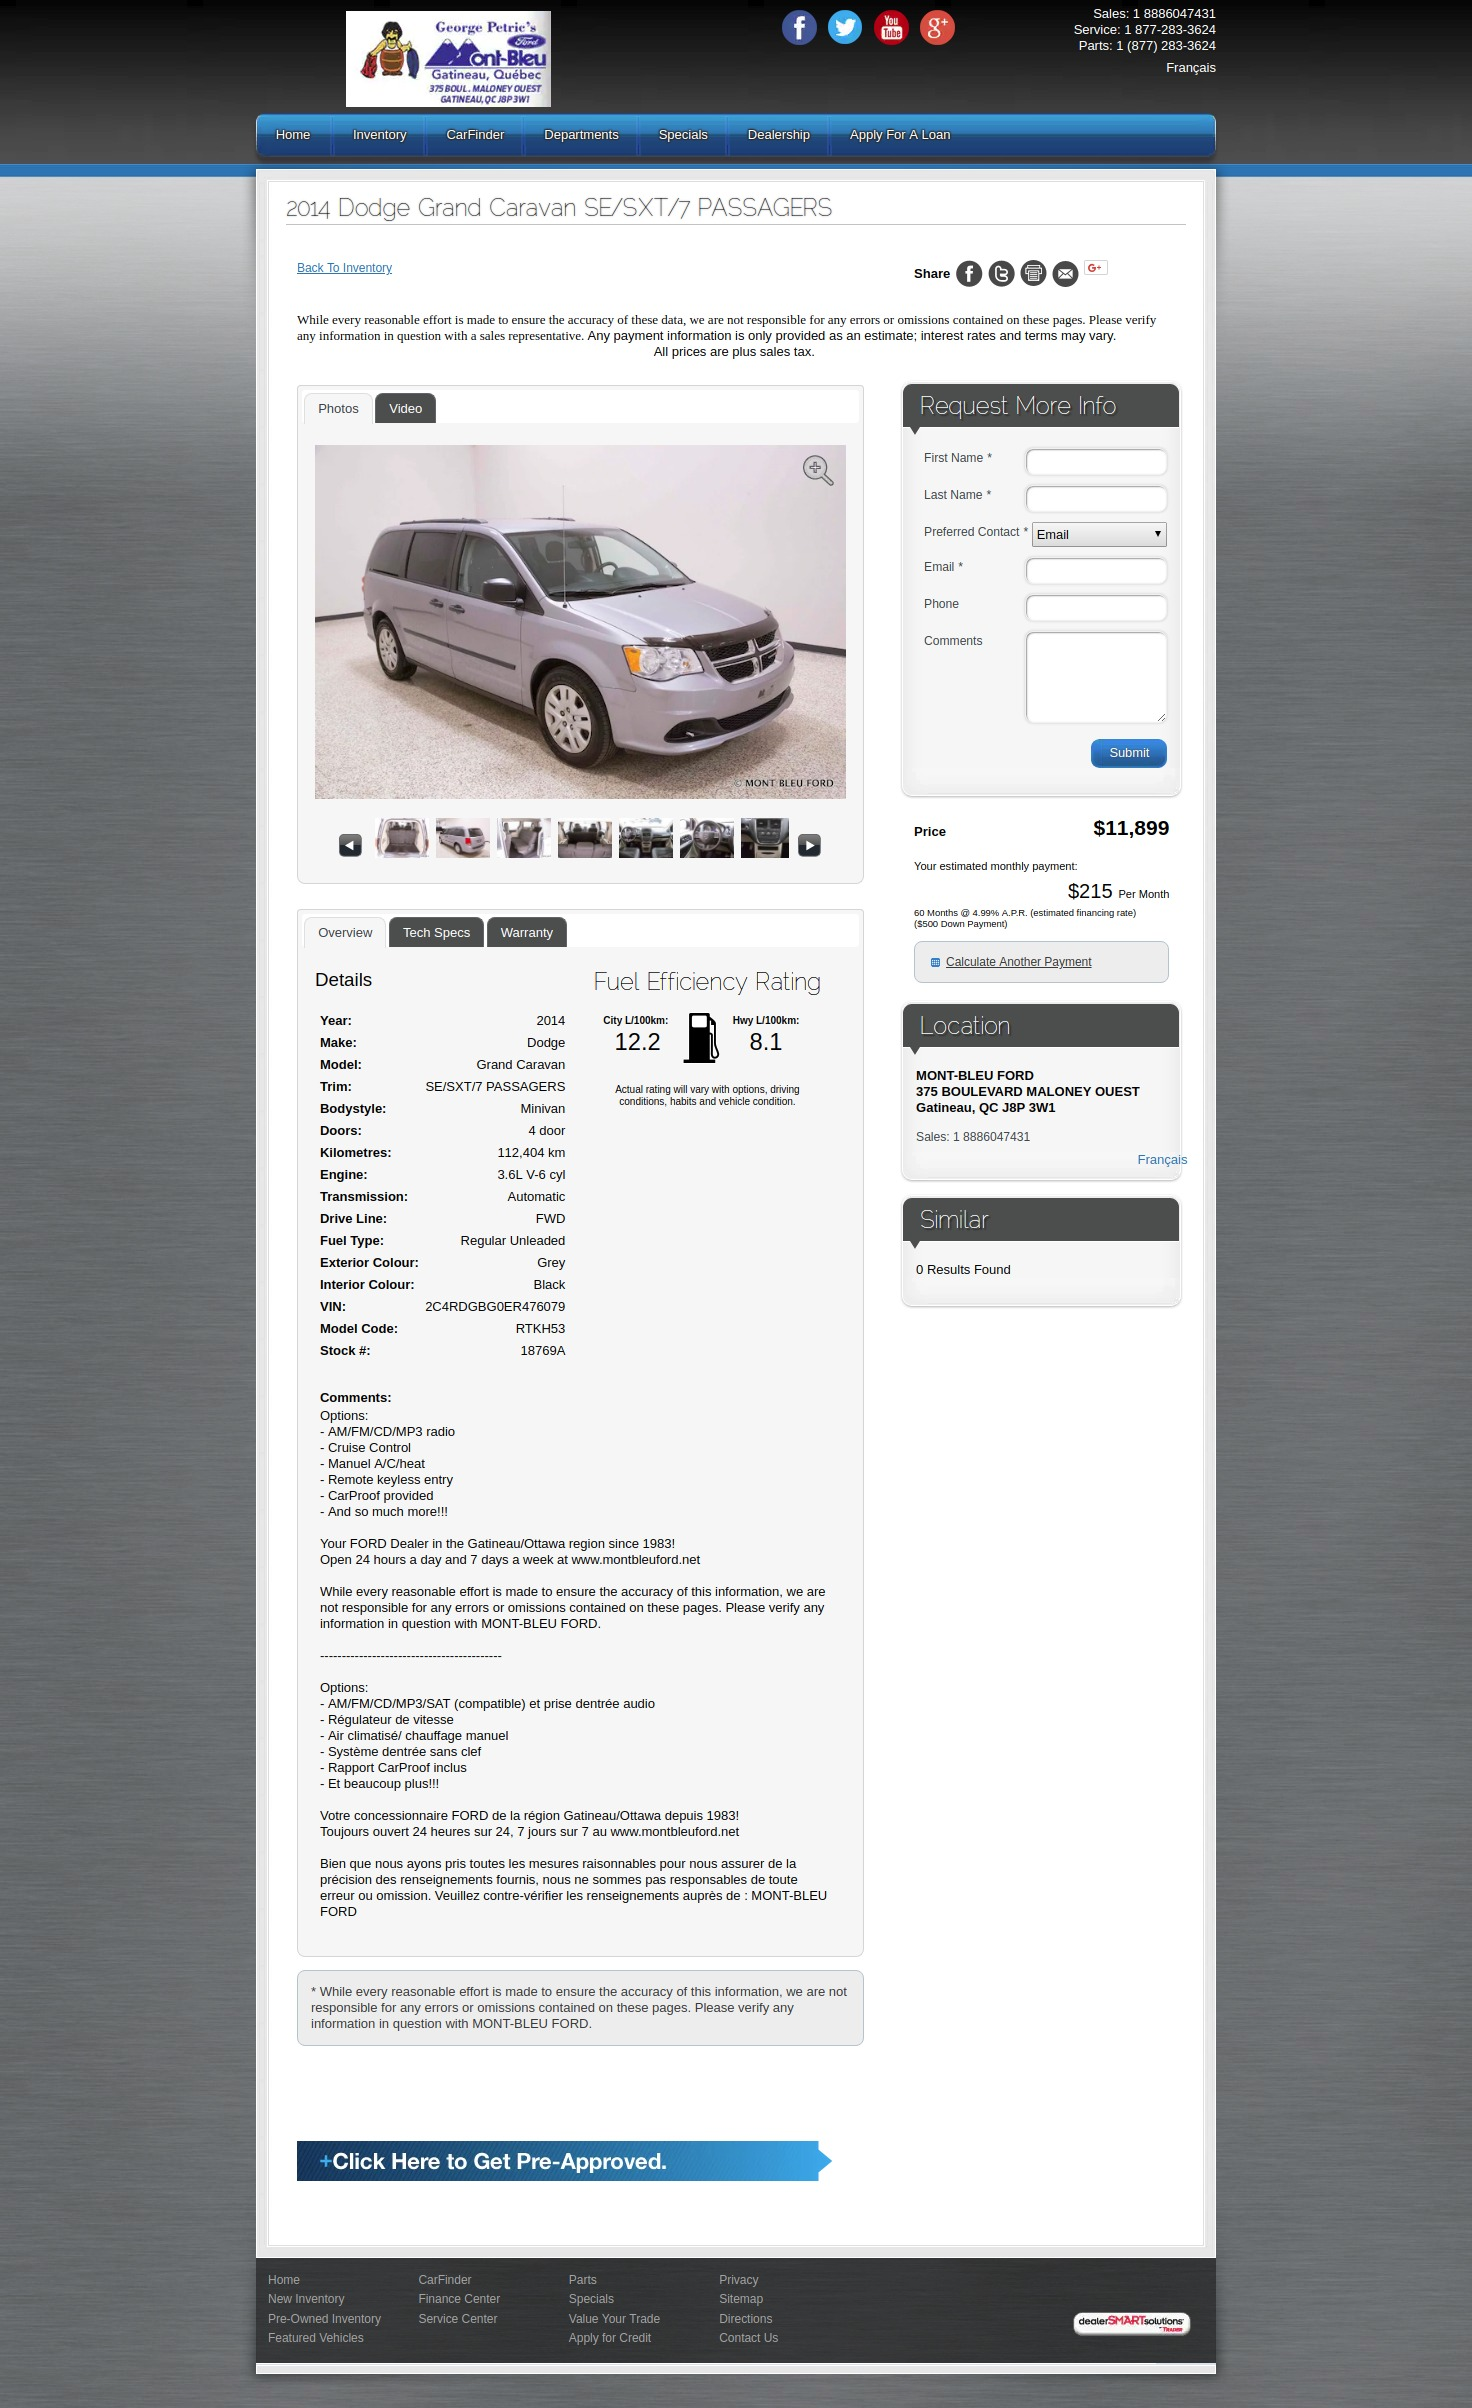car: (798, 834, 822, 858)
